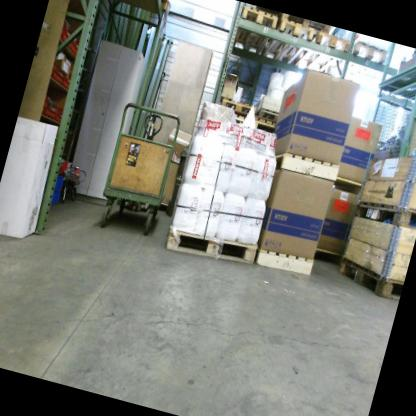pallet: (160, 210, 266, 278), (321, 30, 389, 106), (291, 21, 356, 84), (332, 253, 405, 303), (258, 12, 315, 74), (347, 187, 416, 237), (269, 149, 342, 195), (224, 5, 279, 63), (252, 240, 317, 283), (210, 104, 253, 131), (277, 12, 332, 33), (309, 244, 350, 272), (328, 174, 364, 205), (218, 96, 257, 118), (245, 113, 278, 138), (250, 102, 283, 126)
pallet_truck: (117, 101, 182, 221)
stillage: (353, 65, 416, 194), (376, 43, 416, 107)
